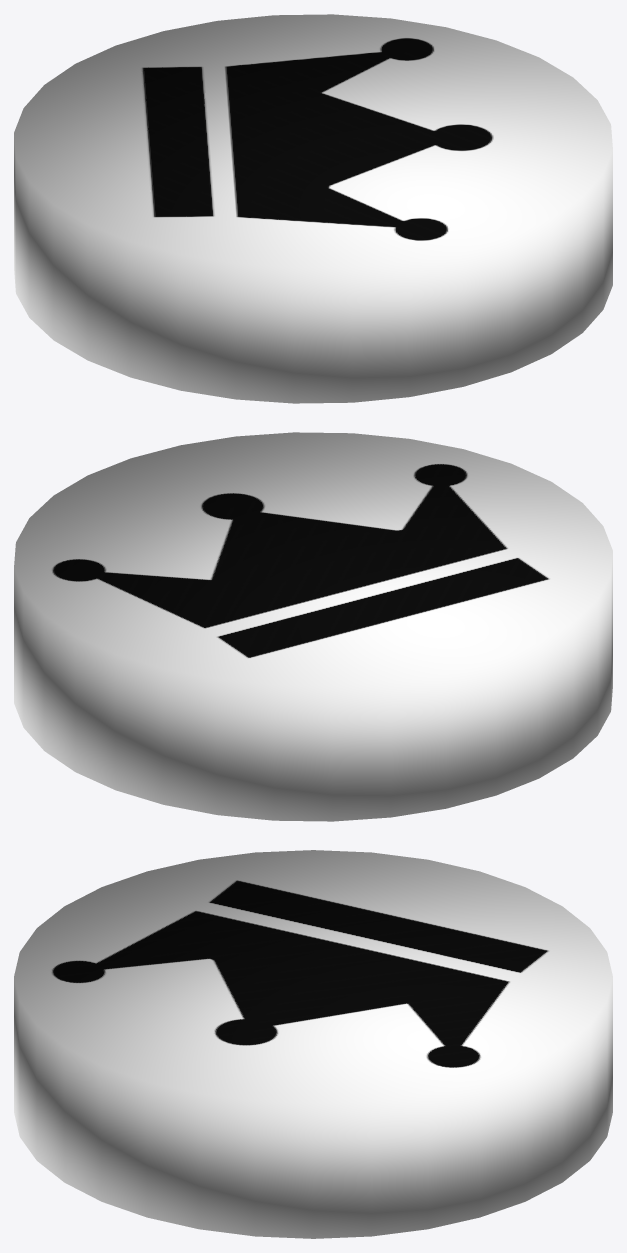
File: checkersPawn.fbx
3 views of the same model, one above another, from view 1: azimuth 30°, elevation 25°; view 2: azimuth 150°, elevation 25°; view 3: azimuth 270°, elevation 25° (orthographic).
Parts seen in each view (by area): view 1: CheckersPawn; view 2: CheckersPawn; view 3: CheckersPawn.
Boxes of the visible parts, x1,y1,x2,y2 form: CheckersPawn: [14, 14, 612, 403]; CheckersPawn: [14, 432, 612, 821]; CheckersPawn: [14, 850, 612, 1238].
Bounding box in the file's own units: 100 × 25 × 100.
